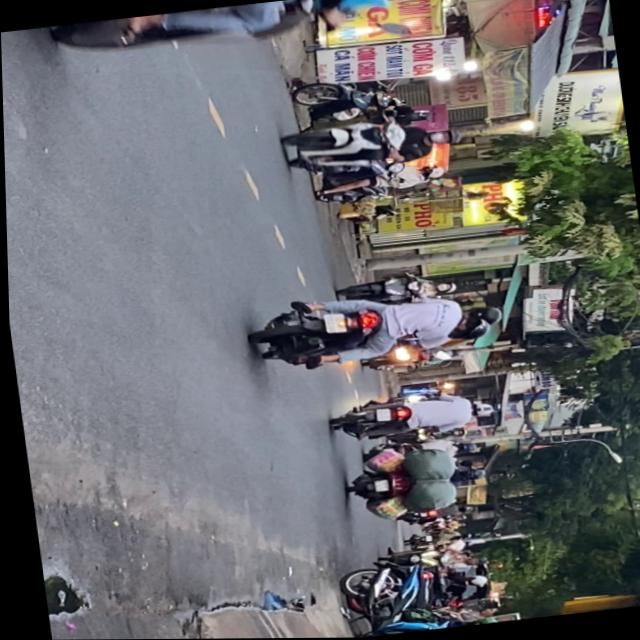helmet: (445, 316, 490, 340), (460, 303, 501, 327), (428, 127, 461, 147), (418, 163, 445, 180), (469, 400, 492, 416)
licenseplate: (244, 277, 506, 377), (276, 108, 466, 180), (325, 384, 495, 444), (307, 153, 449, 208)
nohelmet: (321, 313, 344, 333), (373, 408, 388, 421)
